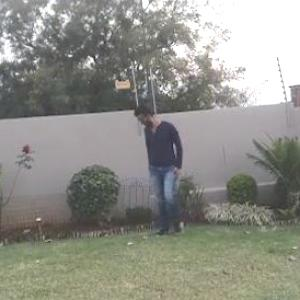follow: (141, 100, 187, 241)
